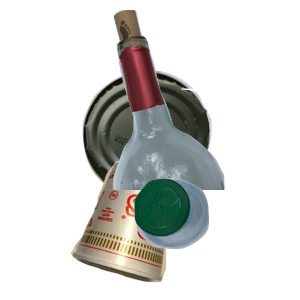glass: (89, 10, 300, 190)
metal: (80, 68, 284, 248)
plastic: (132, 176, 300, 300)
trash: (68, 158, 235, 300)
